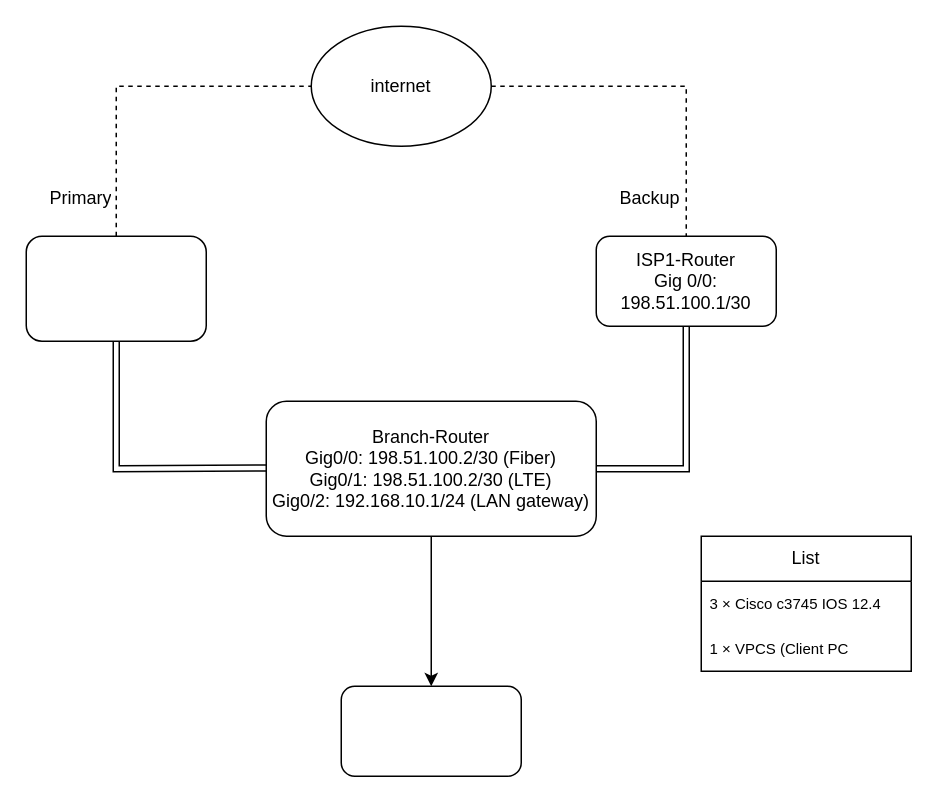
The diagram is 938 pixels wide and 803 high, and some of its shapes have lost their labels. The shapes that lost their labels are listed below. From the top down, each one's centre as x and y in pixels, then its label:
the point at 115,288: ISP1-Router Gig 0/0: 103.0.113.1/30
the point at 430,730: VPCs IP: 192.168.10.10 GW: 192.168.10.1
